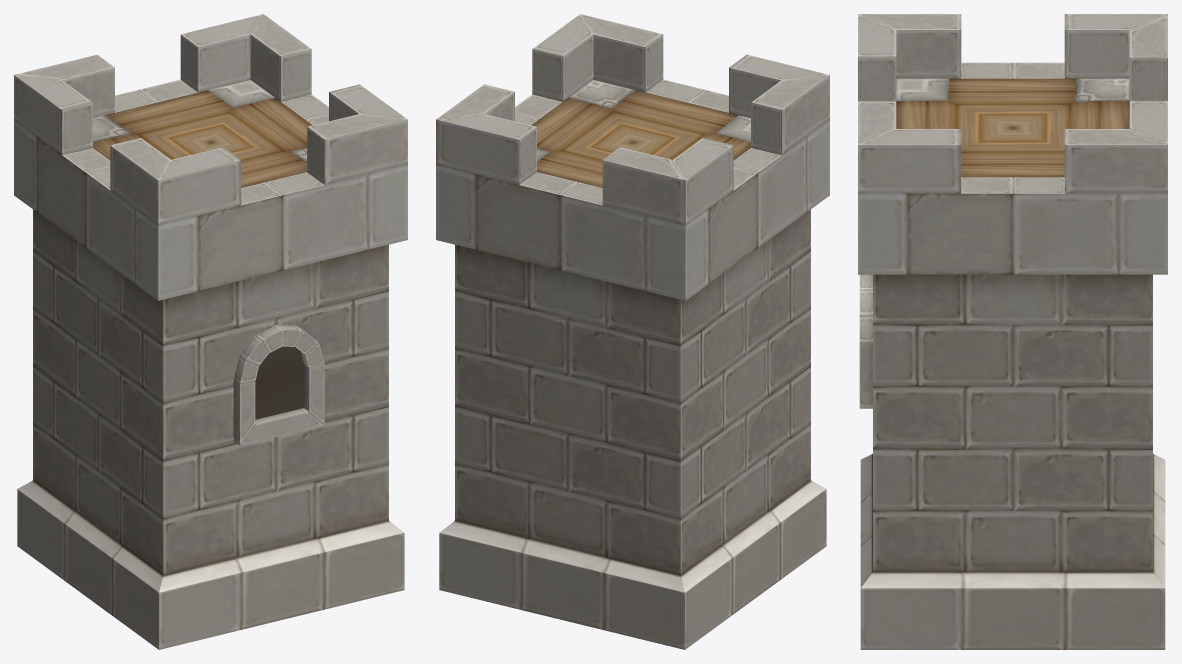
The model's file is CastleBuilding01.FBX.
3 renders of one model, left to right at view 1: azimuth 30°, elevation 25°; view 2: azimuth 150°, elevation 25°; view 3: azimuth 270°, elevation 25°, orthographic. The views are drawn at different scales.
Visible parts, largest first — view 1: CastleBuilding01; view 2: CastleBuilding01; view 3: CastleBuilding01.
Boxes of the visible parts, <box> form: CastleBuilding01: <box>14,14,407,649</box>; CastleBuilding01: <box>436,14,829,649</box>; CastleBuilding01: <box>858,14,1167,649</box>.
Size of the model in its own units: 355 by 639 by 355.
